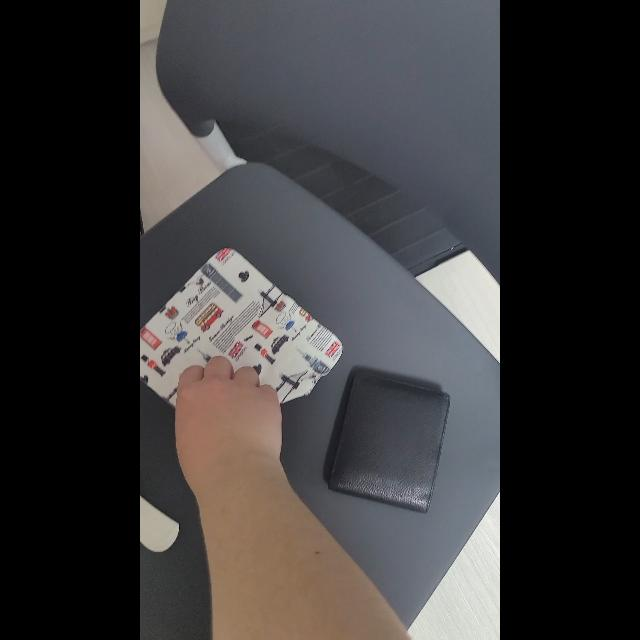COMB: (140, 495, 180, 553)
Glasses cleaning cloth: (140, 248, 342, 410)
WALLET: (328, 371, 452, 515)
